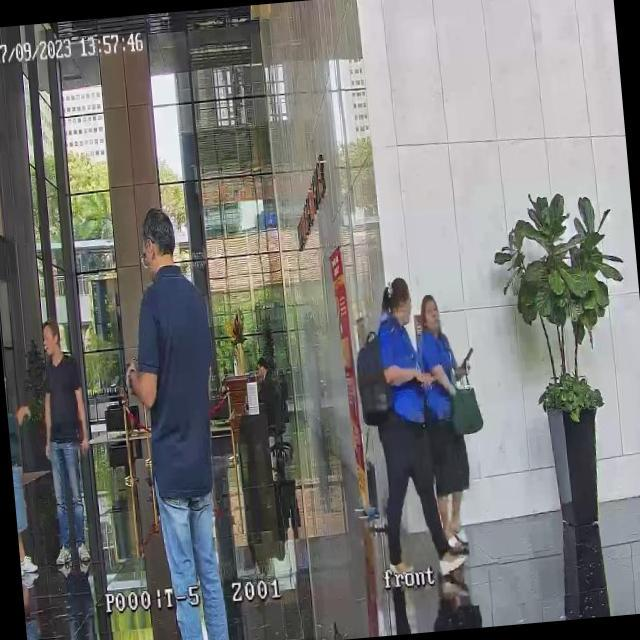person: (112, 202, 237, 640), (362, 273, 469, 583), (414, 291, 489, 557), (32, 316, 100, 573), (3, 371, 43, 576), (253, 353, 280, 426)
